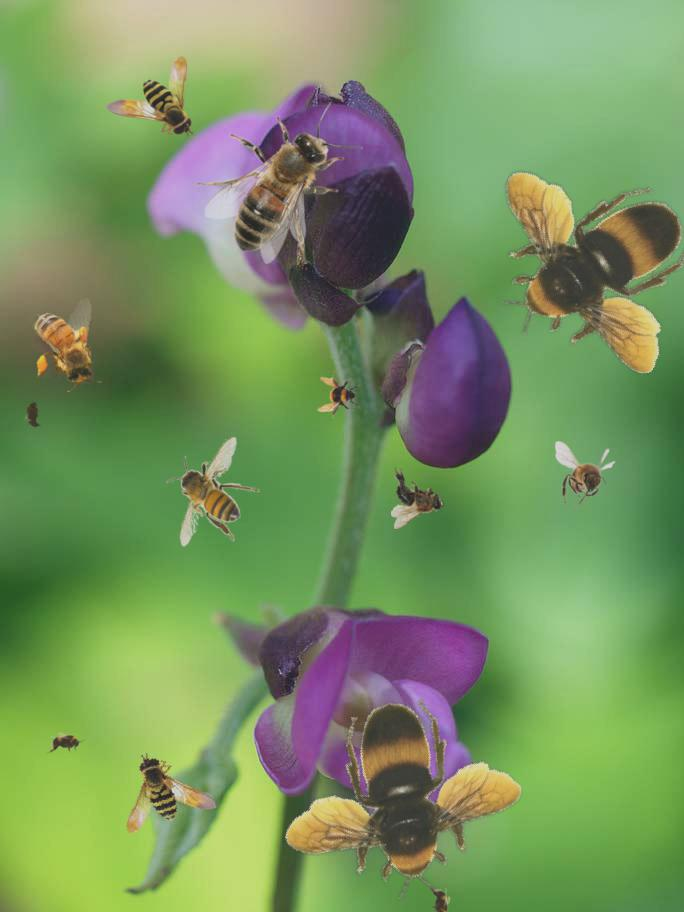Bee: (249, 661, 541, 912), (444, 124, 684, 399), (196, 102, 363, 264), (117, 750, 227, 856), (166, 436, 260, 547), (27, 296, 103, 395), (106, 56, 194, 138), (555, 441, 616, 511), (391, 467, 444, 529), (317, 375, 361, 419), (23, 394, 45, 434), (46, 732, 86, 754), (429, 884, 451, 912)
